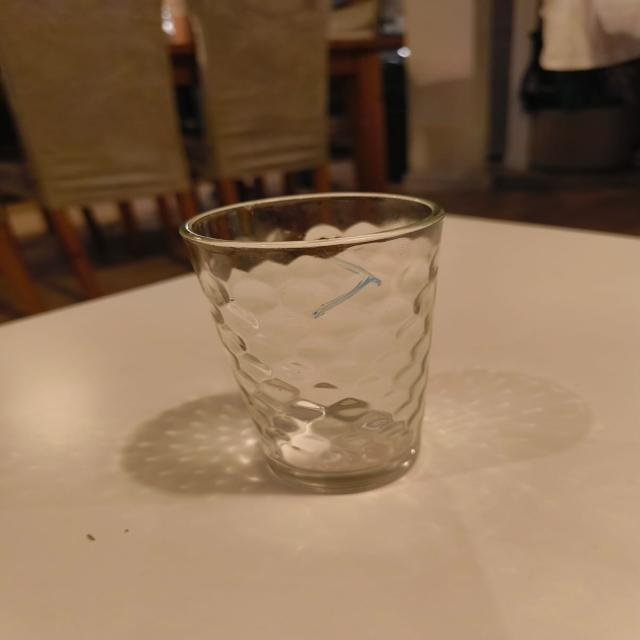mazak: (310, 250, 384, 320)
mazak g2: (177, 190, 447, 482)
